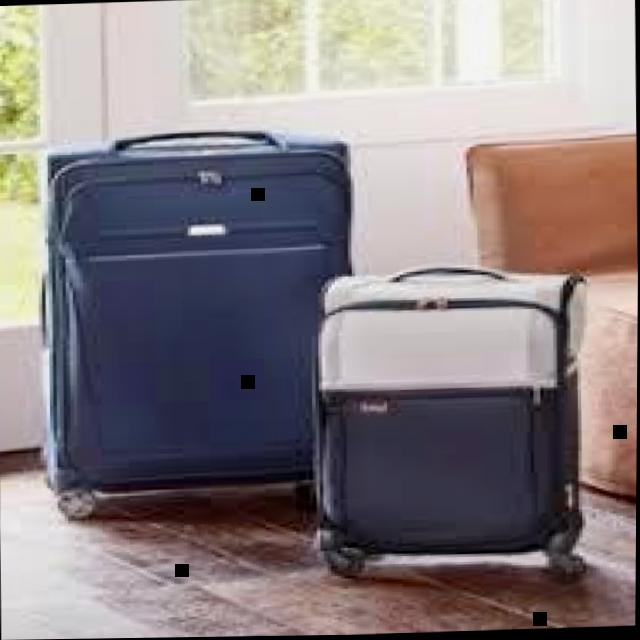luggage: (29, 120, 370, 501), (304, 260, 598, 563)
